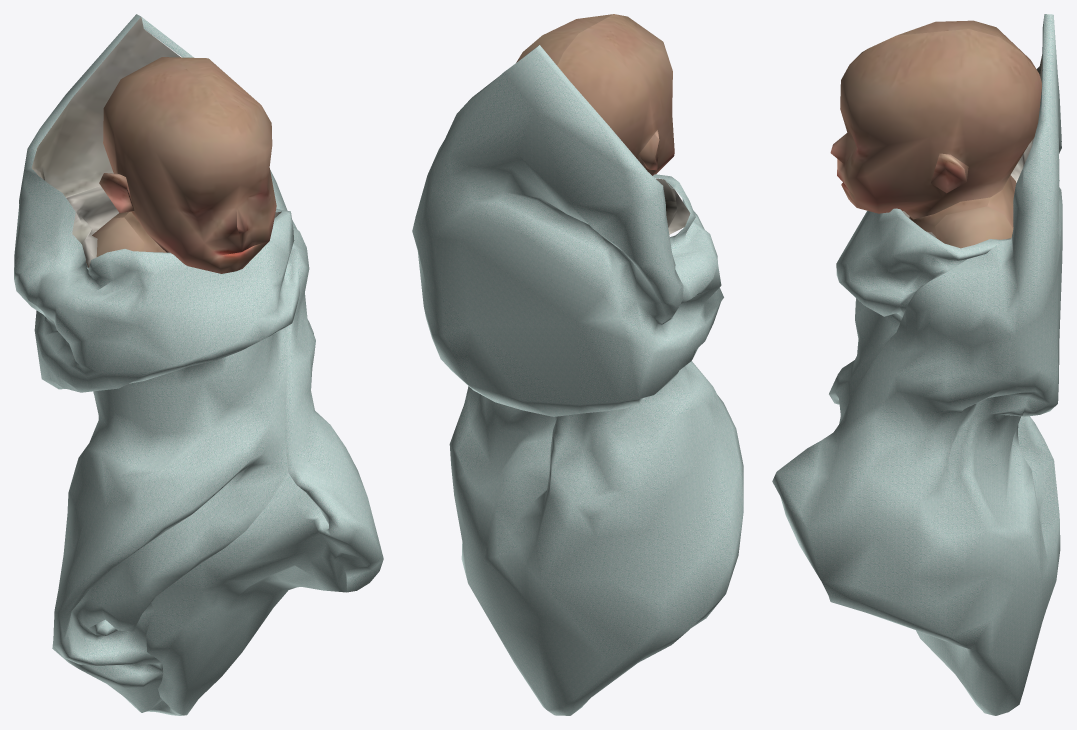
The model's file is Infant.glb.
3 renders of one model, left to right at view 1: azimuth 30°, elevation 25°; view 2: azimuth 150°, elevation 25°; view 3: azimuth 270°, elevation 25°, orthographic.
Parts seen in each view (by area): view 1: 3d66-Editable_mesh-21962762-001, 3d66-Editable_mesh-21962762-002; view 2: 3d66-Editable_mesh-21962762-001, 3d66-Editable_mesh-21962762-002; view 3: 3d66-Editable_mesh-21962762-001, 3d66-Editable_mesh-21962762-002.
Boxes of the visible parts, x1,y1,x2,y2 form: 3d66-Editable_mesh-21962762-001: (14, 14, 383, 715); 3d66-Editable_mesh-21962762-002: (86, 57, 276, 273); 3d66-Editable_mesh-21962762-001: (412, 45, 743, 715); 3d66-Editable_mesh-21962762-002: (516, 14, 674, 175); 3d66-Editable_mesh-21962762-001: (772, 14, 1062, 715); 3d66-Editable_mesh-21962762-002: (830, 20, 1041, 248).
Bounding box in the file's own units: 0.3223 × 0.7554 × 0.286.
Materials: 3 (3 with a texture image).
